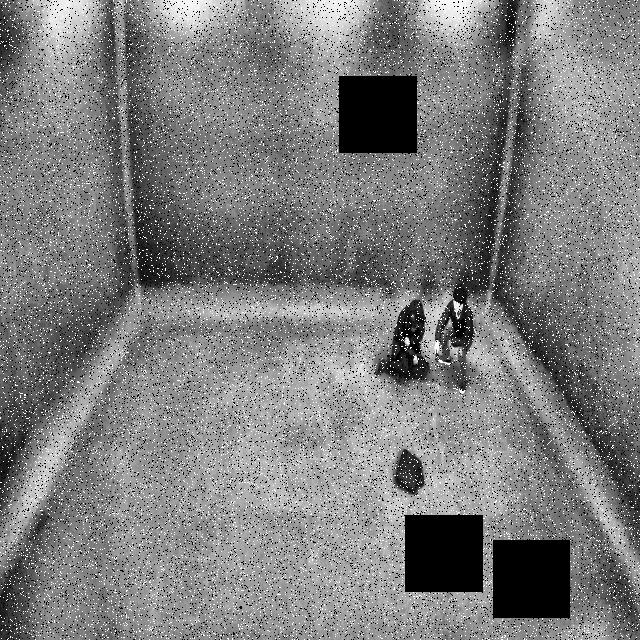assult: (368, 281, 478, 395)
